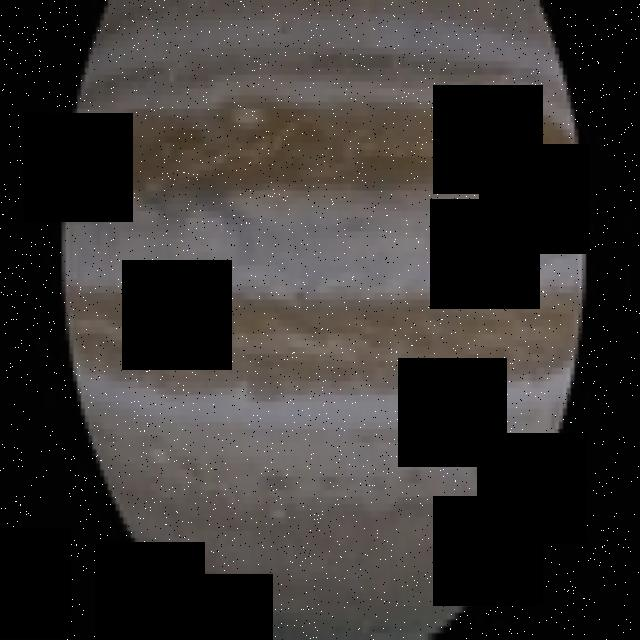Jupiter: (66, 0, 590, 640)
